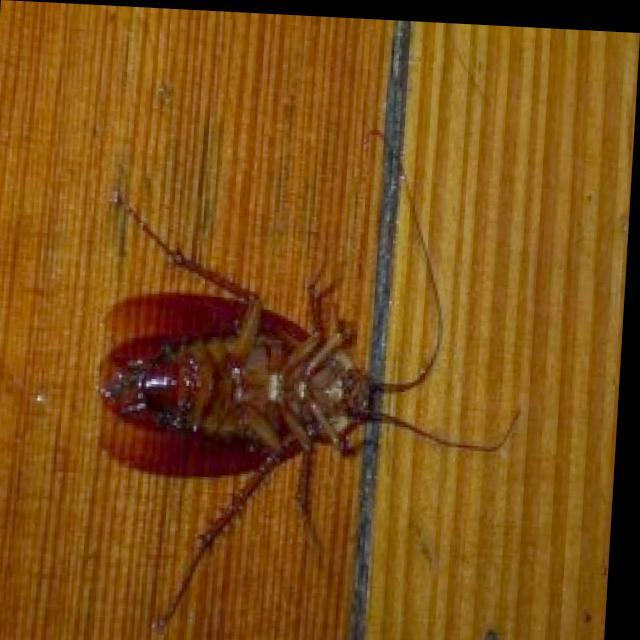cockroach: (61, 213, 482, 575)
